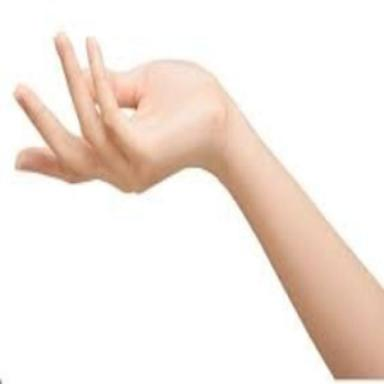normal skin: (15, 35, 384, 377)
